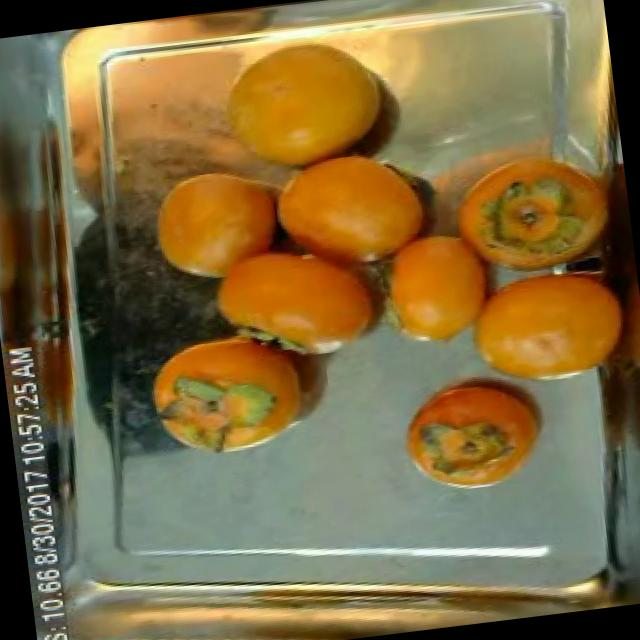Fruit: (129, 312, 316, 474), (446, 259, 640, 403), (385, 360, 570, 508)
